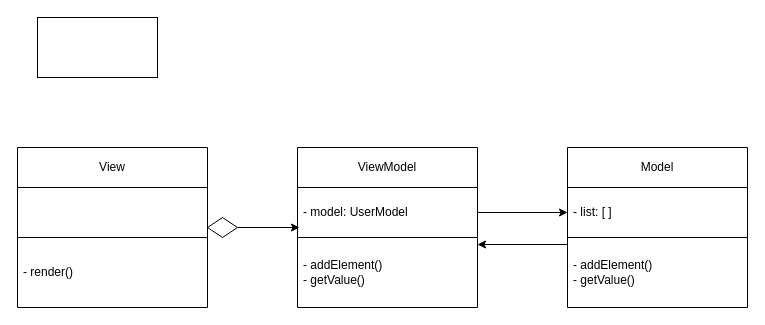
This 765x325 diagram has some shape labels left out. Here are the shapes that lost their labels. From the top down, the centre of each, then its label:
the point at 97,47: Amazon
the point at 112,212: - viewModel: ViewModel - field1: HTMLElement1 - field2: HTMLElement2
